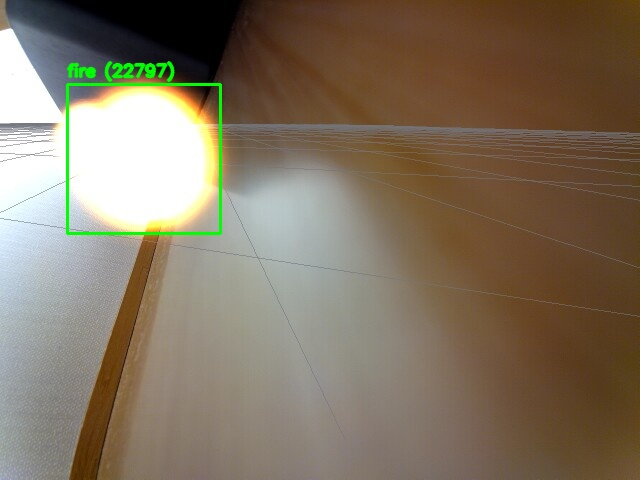fire: (67, 84, 220, 233)
